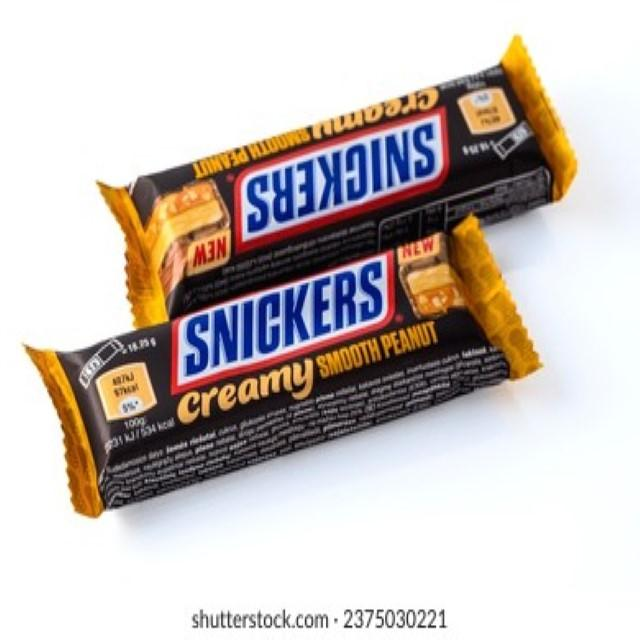snickers_chocolate: (42, 228, 528, 535), (107, 43, 577, 332)
